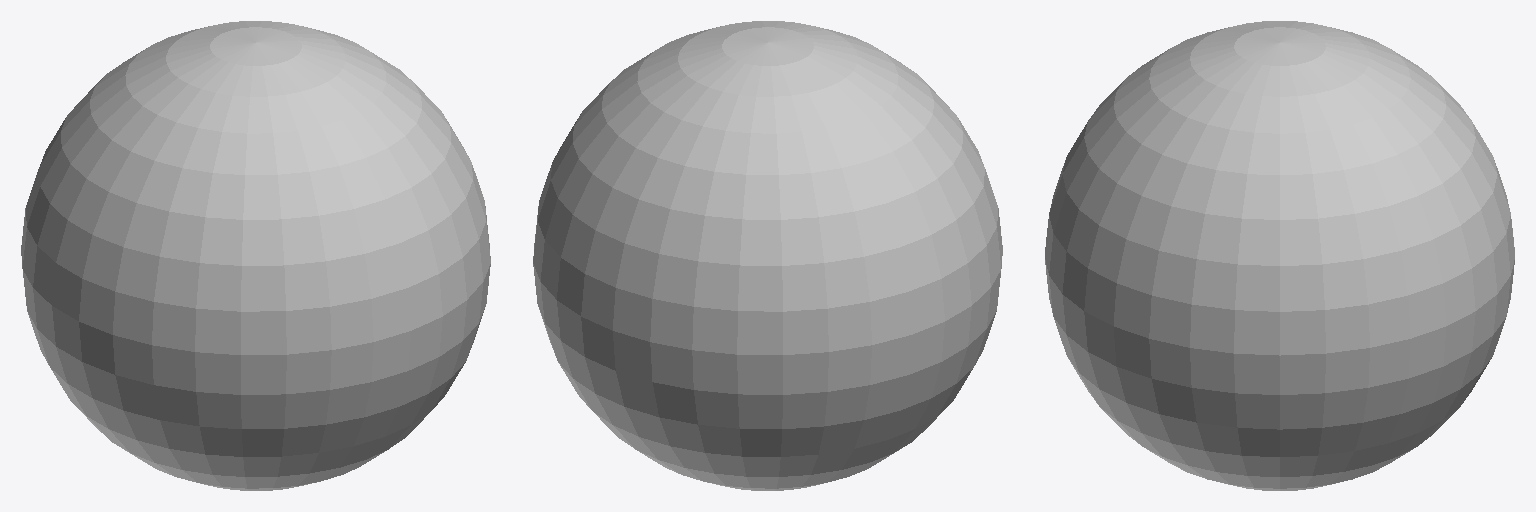
File: pointlight.obj
3 renders of one model, left to right at view 1: azimuth 30°, elevation 25°; view 2: azimuth 150°, elevation 25°; view 3: azimuth 270°, elevation 25°, orthographic.
Parts seen in each view (by area): view 1: Sphere; view 2: Sphere; view 3: Sphere.
Part boxes in pixels (left/top/right/bottom): Sphere: left=21, top=21, right=490, bottom=490; Sphere: left=533, top=21, right=1002, bottom=490; Sphere: left=1045, top=21, right=1514, bottom=490.
Bounding box in the file's own units: 0.3043 × 0.3043 × 0.3043.